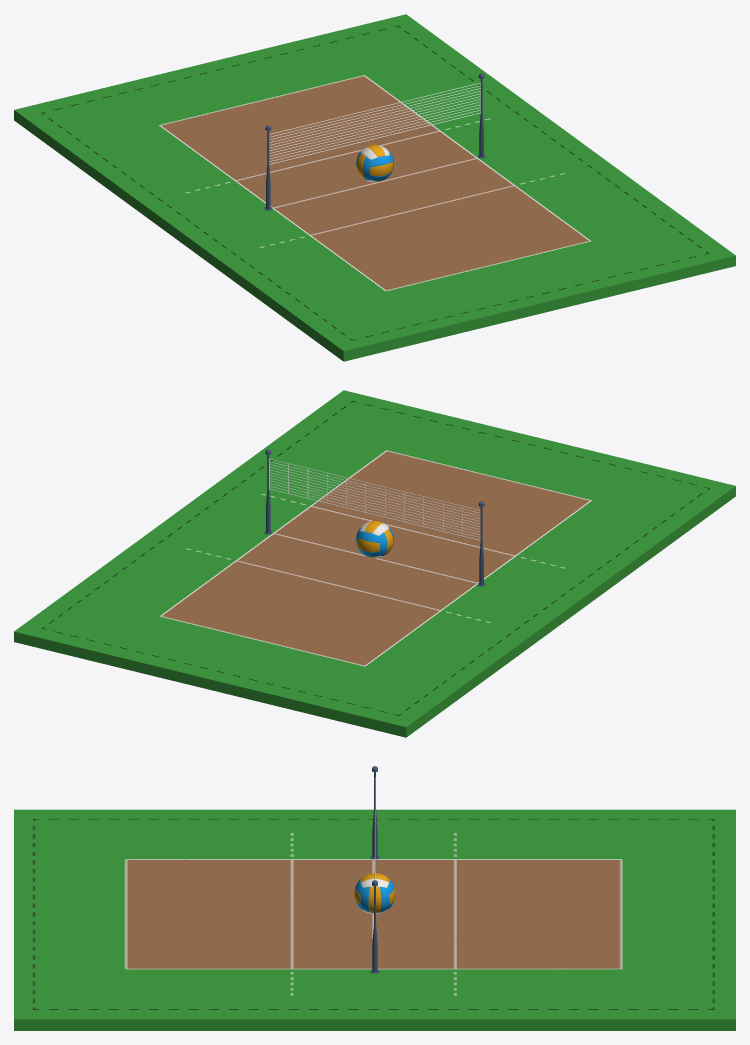
The model's file is volley_ball_court.glb.
The picture shows the model from 3 angles, top to bottom: view 1: azimuth 30°, elevation 25°; view 2: azimuth 150°, elevation 25°; view 3: azimuth 270°, elevation 25°; orthographic projection. The views are drawn at different scales.
Visible parts, largest first — view 1: Plane_2, Cube_3; view 2: Plane_2, Cube_3; view 3: Plane_2, Cube_3.
Part boxes in pixels (bbox=[...]): Plane_2: bbox=[14, 14, 735, 361]; Cube_3: bbox=[356, 145, 393, 182]; Plane_2: bbox=[14, 390, 735, 737]; Cube_3: bbox=[356, 521, 393, 558]; Plane_2: bbox=[14, 766, 735, 1030]; Cube_3: bbox=[354, 873, 395, 914].
Size of the model in its own units: 11.46 by 2.61 by 16.69.
Materials: 6 (1 with a texture image).
